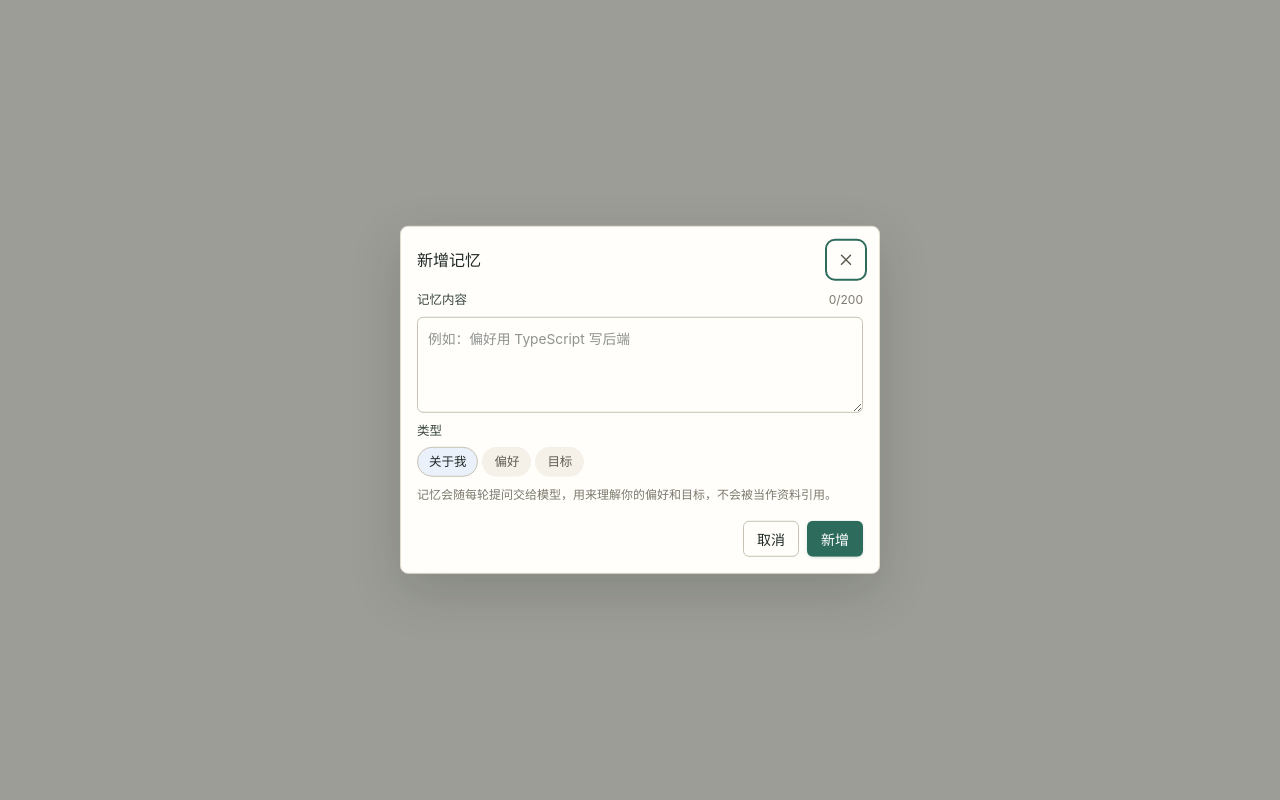
Scenario: MemoryEditorDialog › blocks submit when the content is empty
Click the button "新增" at (835, 539), box 807,521 -> 863,557
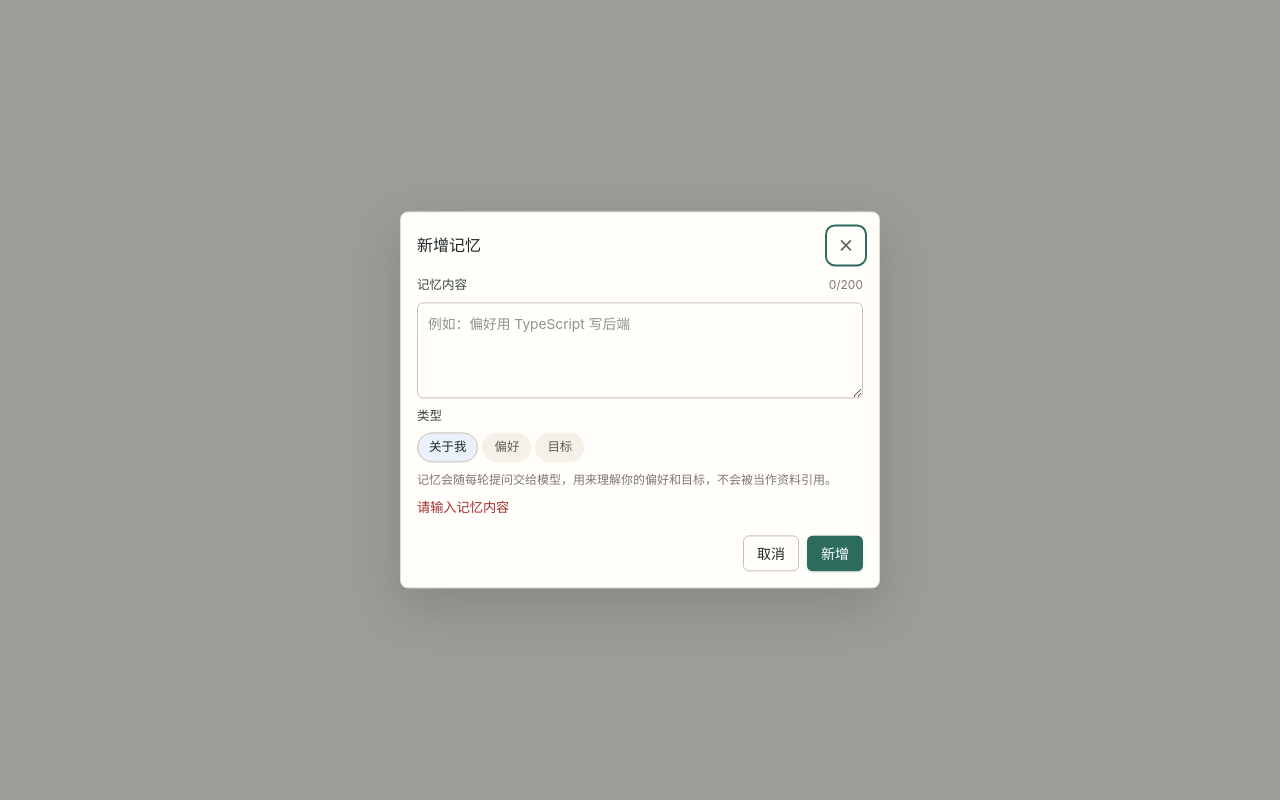
Now the message reads "请输入记忆内容", box 417,500 -> 509,516
